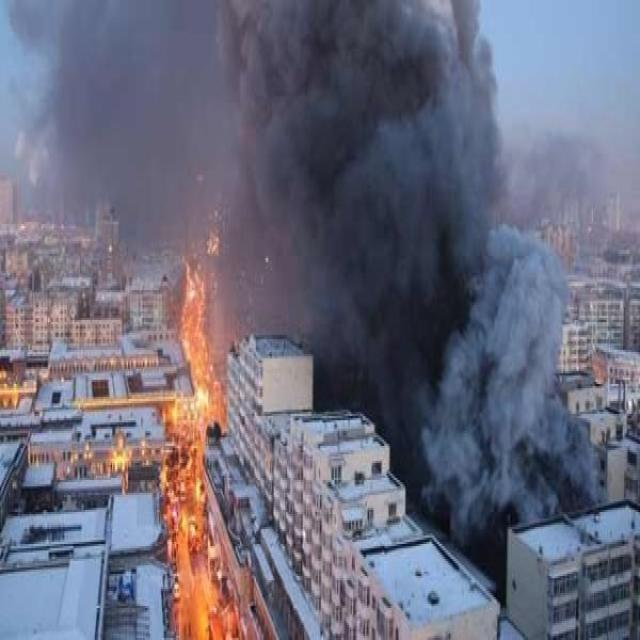Smoke: (0, 0, 624, 613)
